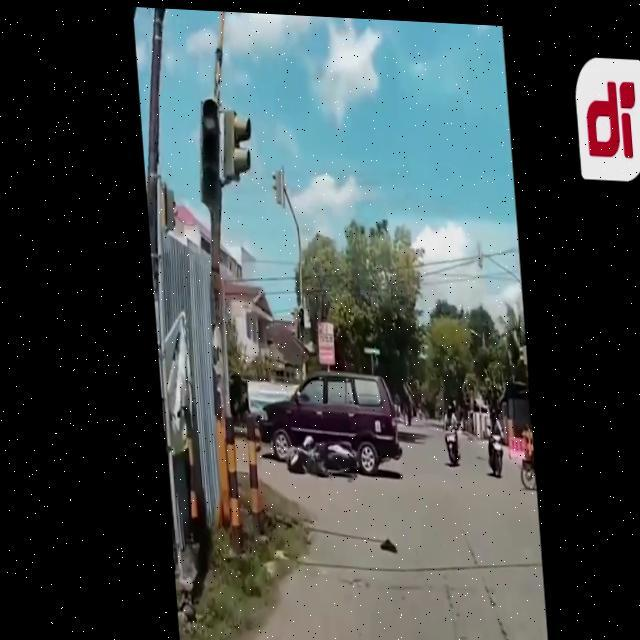multiple_accident: (238, 298, 423, 507)
normal: (422, 382, 517, 488)
